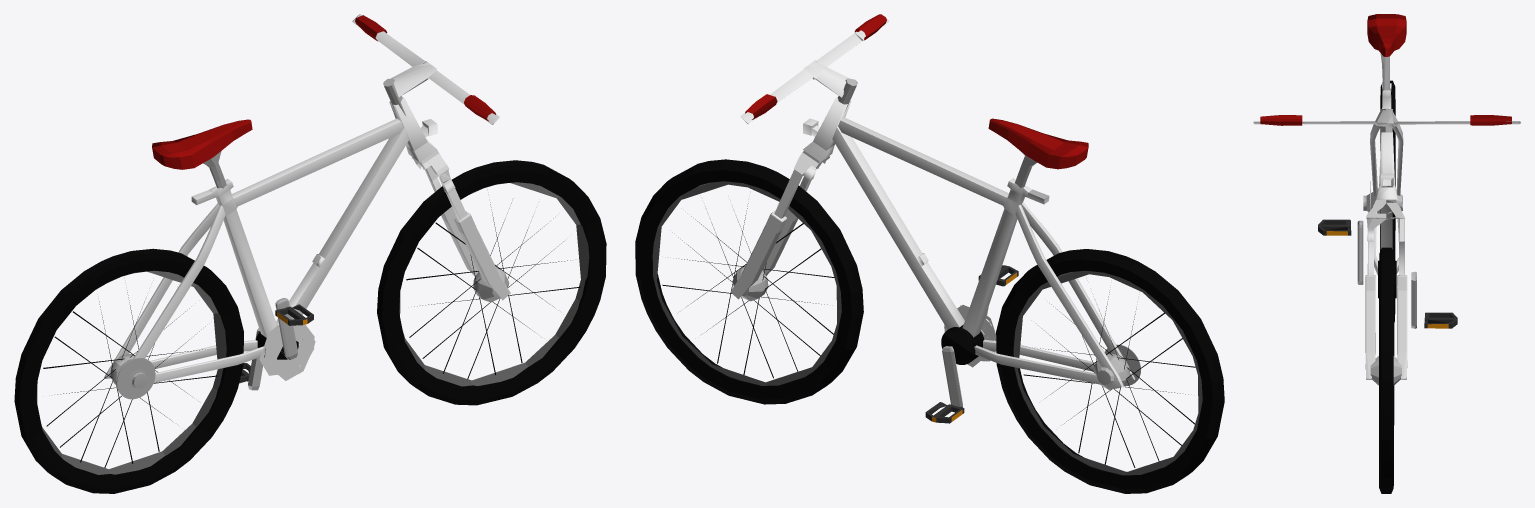
The model's file is Cycle.fbx.
3 renders of one model, left to right at view 1: azimuth 30°, elevation 25°; view 2: azimuth 150°, elevation 25°; view 3: azimuth 270°, elevation 25°, orthographic. The views are drawn at different scales.
Parts seen in each view (by area): view 1: Cycle; view 2: Cycle; view 3: Cycle.
Boxes of the visible parts, x1=… form: Cycle: x1=14, y1=14, x2=606, y2=493; Cycle: x1=635, y1=14, x2=1224, y2=493; Cycle: x1=1253, y1=14, x2=1520, y2=493.
Bounding box in the file's own units: 419 × 242 × 174.
